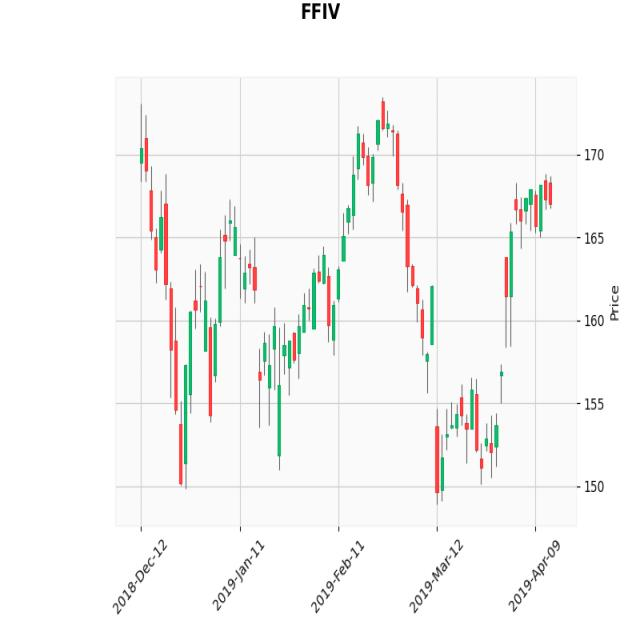Double-Bottom: (125, 72, 388, 492)
